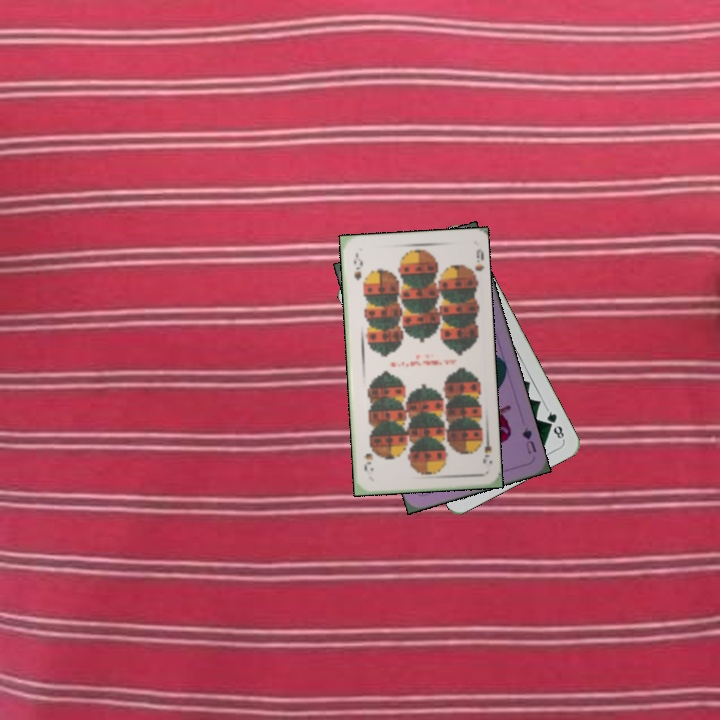G8: (542, 405, 567, 443)
GU: (518, 424, 539, 456)
S9: (475, 431, 494, 467), (349, 250, 364, 282)
